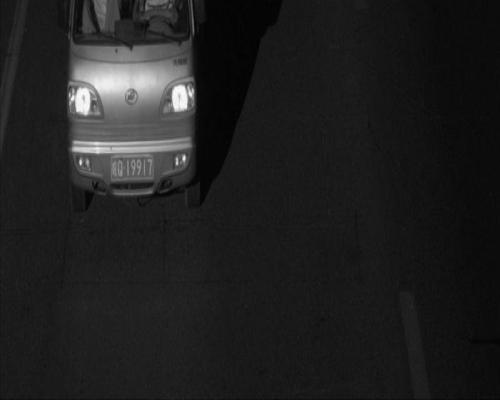Carplate: (107, 152, 158, 185)
